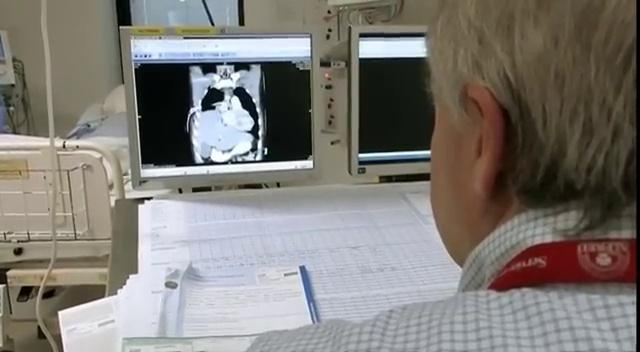others: (234, 0, 637, 351)
